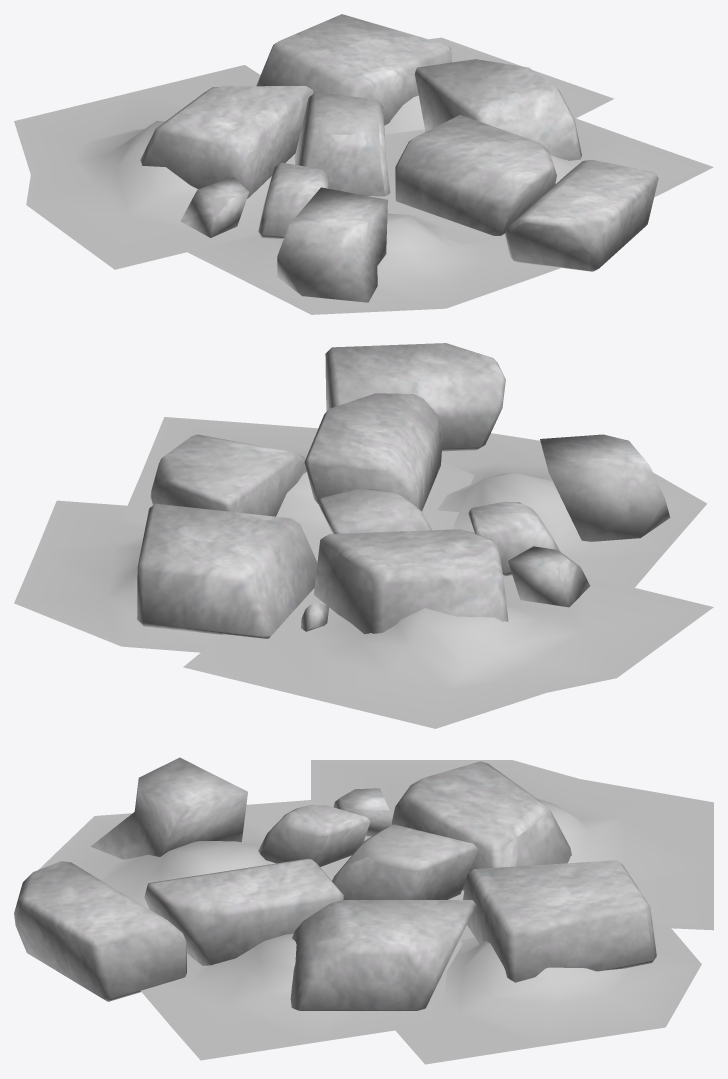
3 renders of one model, top to bottom at view 1: azimuth 30°, elevation 25°; view 2: azimuth 150°, elevation 25°; view 3: azimuth 270°, elevation 25°, orthographic. The views are drawn at different scales.
Visible parts, largest first — view 1: Coke_Cut2_coke_0; view 2: Coke_Cut2_coke_0; view 3: Coke_Cut2_coke_0.
Boxes of the visible parts, <box> form: Coke_Cut2_coke_0: <box>14,14,713,314</box>; Coke_Cut2_coke_0: <box>14,343,713,728</box>; Coke_Cut2_coke_0: <box>14,757,713,1064</box>.
Size of the model in its own units: 0.438 by 0.0503 by 0.4248.
2 materials, 1 textured.
